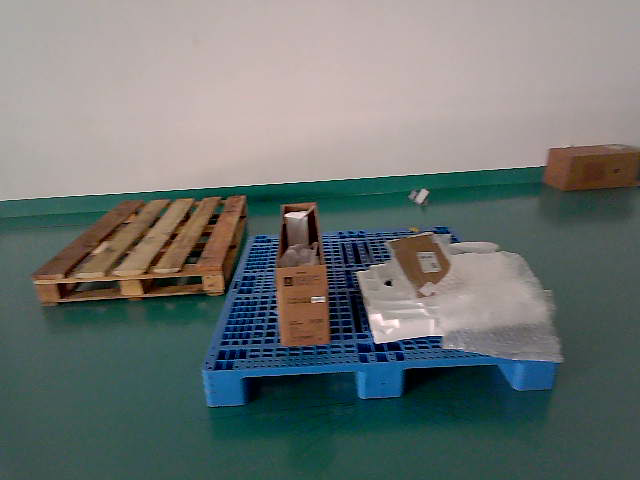block: (358, 362, 402, 399), (204, 367, 243, 408), (517, 359, 557, 390)
front: (202, 356, 558, 407)
hole pallet: (243, 371, 359, 407), (403, 362, 520, 394)
